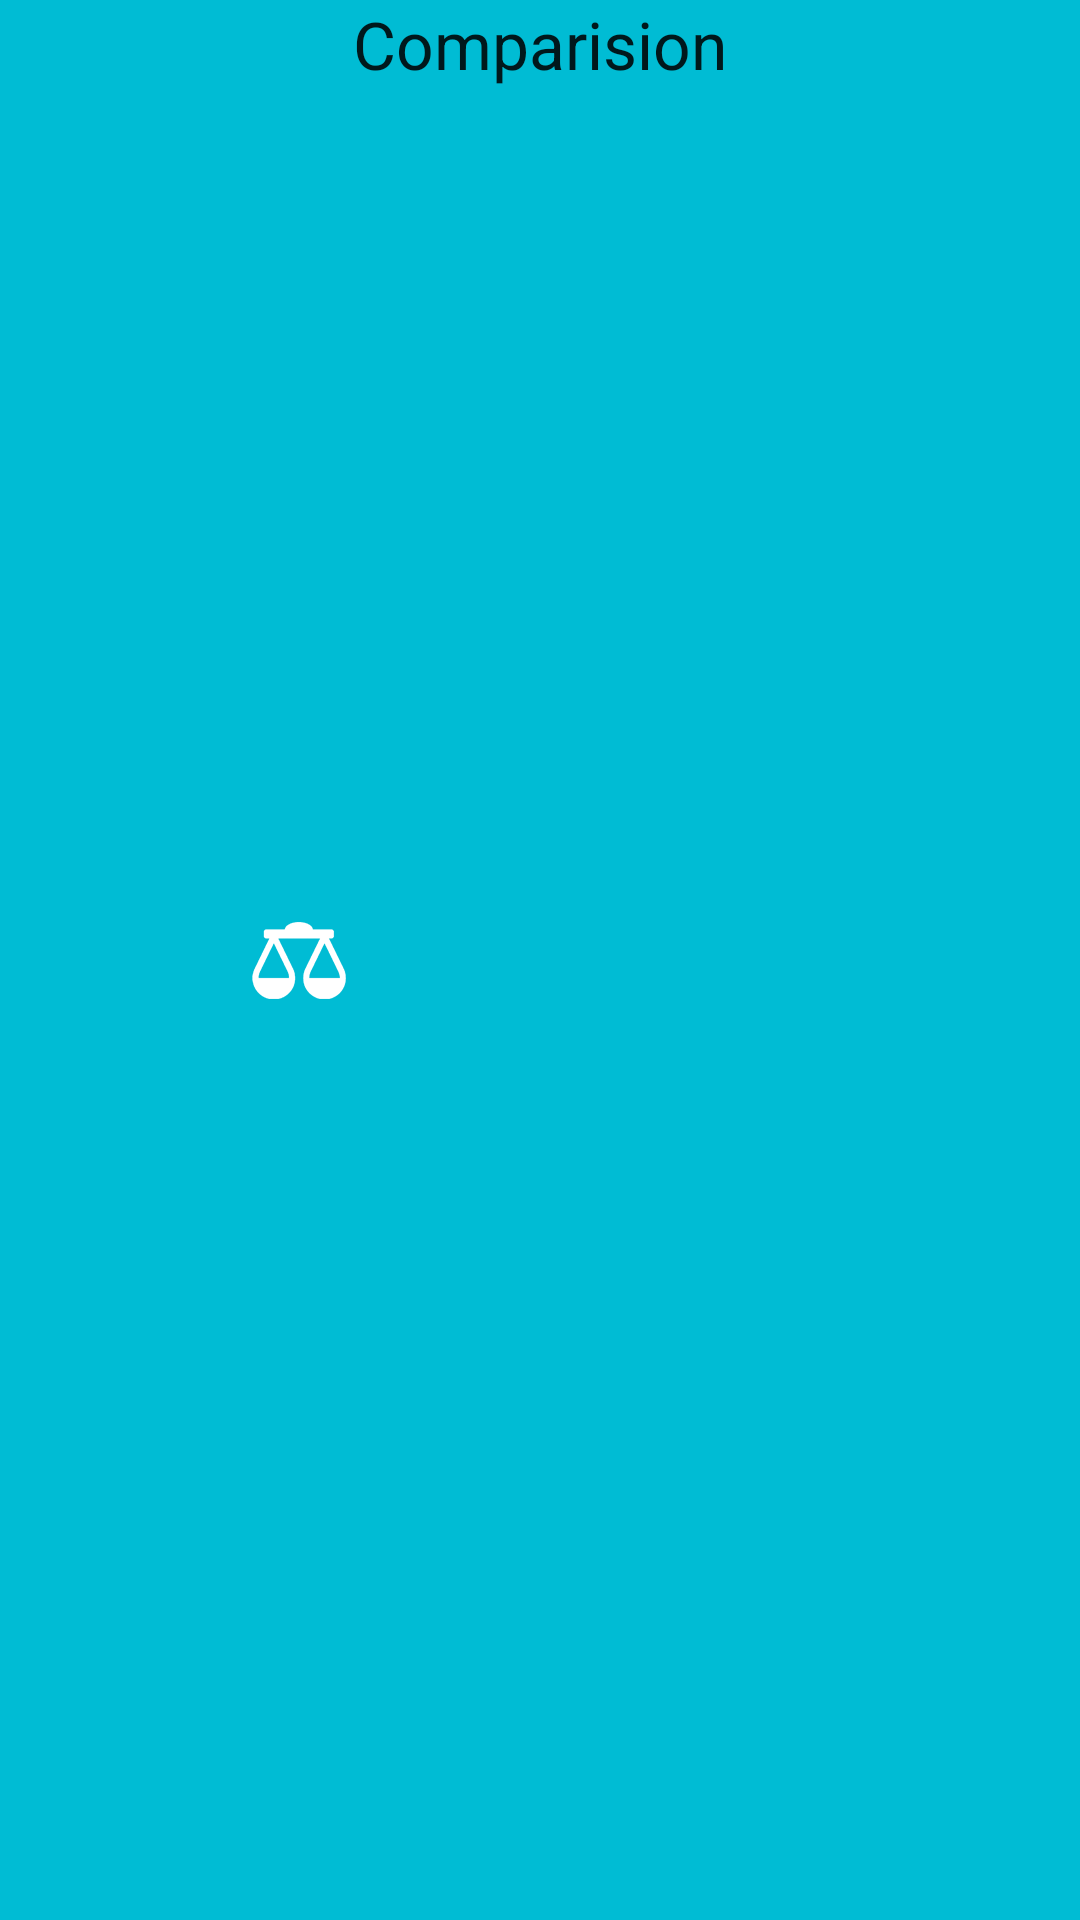

Where icons sit on this 1080px×1920px app screen, as BBox(x1, y1, x2, y2):
compare: BBox(252, 922, 346, 999)
